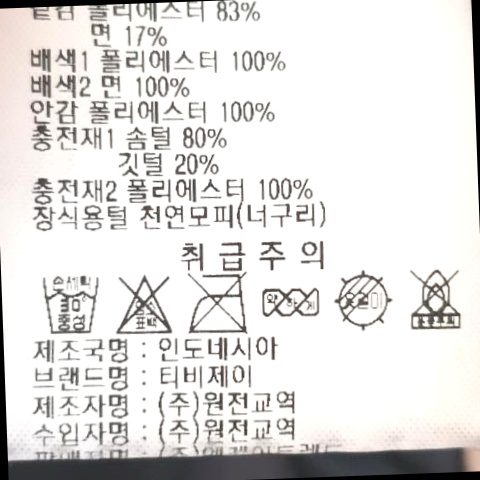DN_iron: (184, 272, 251, 338)
hand_wash: (42, 270, 106, 338)
line_dry_in_shade: (336, 269, 396, 331)
non_chlorine_bleach: (114, 264, 179, 338)
wring: (261, 281, 327, 321)
